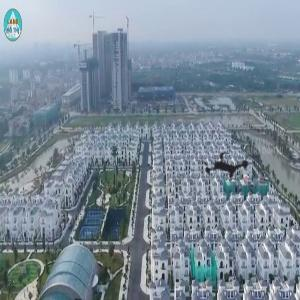drone: (187, 128, 264, 205)
